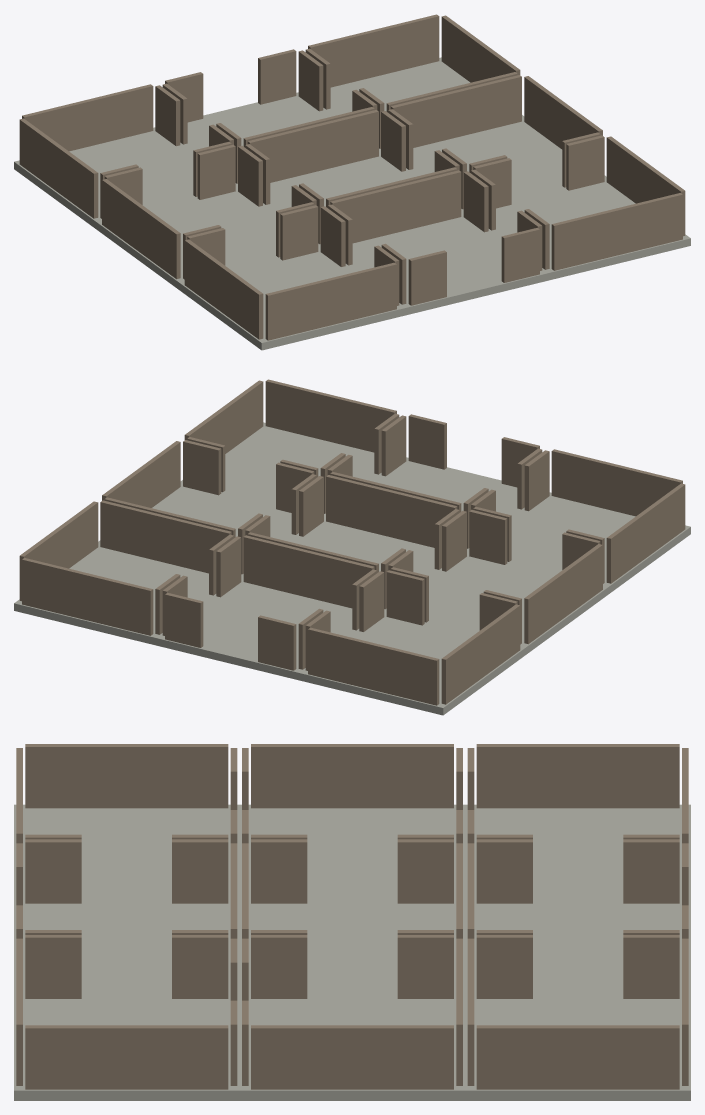
Rendered from seed-7.glb.
The picture shows the model from 3 angles, top to bottom: view 1: azimuth 30°, elevation 25°; view 2: azimuth 150°, elevation 25°; view 3: azimuth 270°, elevation 25°; orthographic projection. The views are drawn at different scales.
Parts seen in each view (by area): view 1: tee_floor, elbow_S_panel_0, elbow_W_panel_0.001, tee_floor.001, elbow_floor.003, elbow_floor.002, end_W_panel_0, tee_S_panel_0, straight_W_panel_0, elbow_S_panel_0.002, elbow_W_panel_0.003, elbow_floor (+29 smaller); view 2: tee_floor.002, elbow_W_panel_0.003, end_W_panel_0, tee_floor.001, elbow_floor, elbow_floor.001, elbow_W_panel_0.001, tee_S_panel_0.002, end_E_panel_0, straight_E_panel_0, elbow_S_panel_0, elbow_floor.003 (+29 smaller); view 3: elbow_S_panel_0.001, end_N_panel_0, elbow_W_panel_0, elbow_S_panel_0.003, tee_S_panel_0.001, elbow_W_panel_0.002, straight_floor, tee_floor, tee_floor.002, tee_floor.001, elbow_floor, elbow_floor.003 (+27 smaller).
Part boxes in pixels (left/top/right/bottom): tee_floor: left=345, top=213, right=547, bottom=315; elbow_S_panel_0: left=265, top=262, right=396, bottom=340; elbow_W_panel_0.001: left=551, top=193, right=682, bottom=270; tee_floor.001: left=96, top=187, right=320, bottom=289; elbow_floor.003: left=14, top=127, right=237, bottom=229; elbow_floor.002: left=406, top=118, right=606, bottom=211; end_W_panel_0: left=308, top=14, right=439, bottom=87; tee_S_panel_0: left=330, top=170, right=461, bottom=243; straight_W_panel_0: left=247, top=110, right=378, bottom=182; elbow_S_panel_0.002: left=390, top=75, right=521, bottom=147; elbow_W_panel_0.003: left=22, top=84, right=153, bottom=151; elbow_floor: left=179, top=248, right=404, bottom=350; tee_floor.002: left=157, top=578, right=359, bottom=680; elbow_W_panel_0.003: left=308, top=627, right=439, bottom=705; end_W_panel_0: left=22, top=558, right=153, bottom=635; tee_floor.001: left=384, top=552, right=608, bottom=654; elbow_floor: left=467, top=492, right=690, bottom=594; elbow_floor.001: left=180, top=422, right=381, bottom=515; elbow_W_panel_0.001: left=265, top=379, right=396, bottom=452; tee_S_panel_0.002: left=243, top=535, right=374, bottom=608; end_E_panel_0: left=100, top=500, right=231, bottom=573; straight_E_panel_0: left=326, top=475, right=457, bottom=547; elbow_S_panel_0: left=551, top=449, right=682, bottom=516; elbow_floor.003: left=300, top=613, right=525, bottom=715; elbow_S_panel_0.001: left=25, top=1025, right=228, bottom=1089; end_N_panel_0: left=476, top=1025, right=679, bottom=1089; elbow_W_panel_0: left=25, top=744, right=228, bottom=808; elbow_S_panel_0.003: left=476, top=744, right=679, bottom=808; tee_S_panel_0.001: left=251, top=744, right=453, bottom=808; elbow_W_panel_0.002: left=251, top=1025, right=453, bottom=1089; straight_floor: left=239, top=900, right=465, bottom=995; tee_floor: left=14, top=900, right=239, bottom=995; tee_floor.002: left=465, top=900, right=690, bottom=995; tee_floor.001: left=239, top=804, right=465, bottom=899; elbow_floor: left=14, top=804, right=239, bottom=899; elbow_floor.003: left=465, top=804, right=690, bottom=899.
Size of the model in its own units: 12 by 1.4 by 12.
